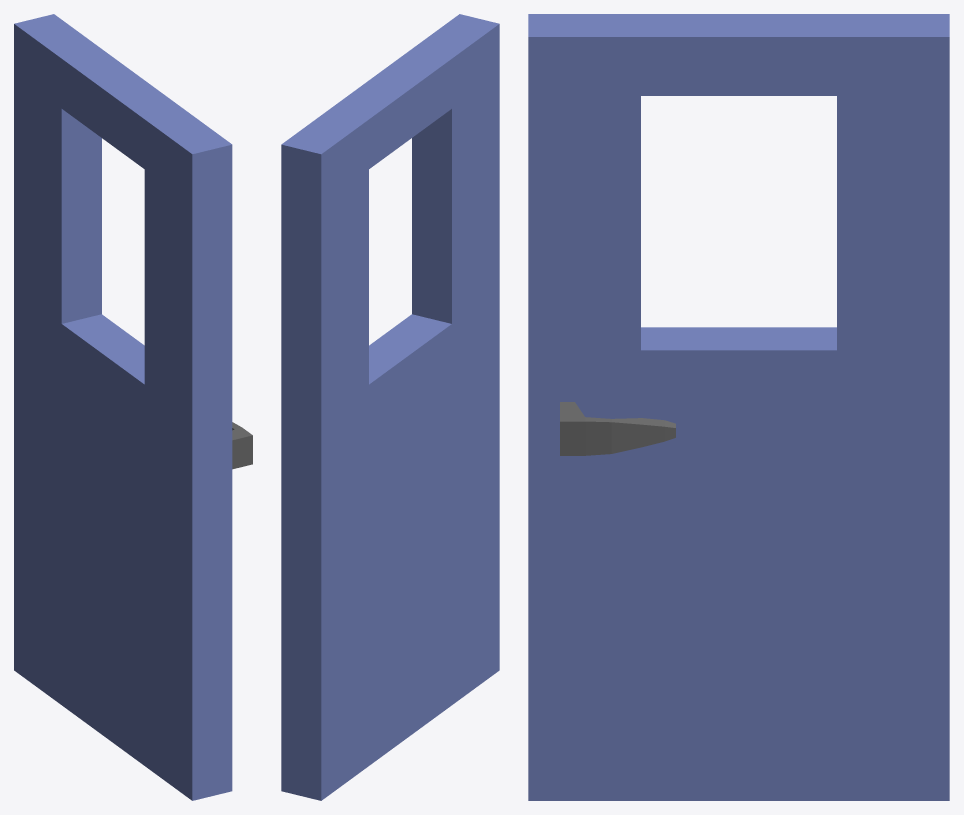
Rendered from Doors.fbx.
3 renders of one model, left to right at view 1: azimuth 30°, elevation 25°; view 2: azimuth 150°, elevation 25°; view 3: azimuth 270°, elevation 25°, orthographic. The views are drawn at different scales.
Visible parts, largest first — view 1: Cube.005, Cube.003; view 2: Cube.005; view 3: Cube.005, Cube.003.
Boxes of the visible parts, <box> form: Cube.005: <box>14,14,232,800</box>; Cube.003: <box>232,422,252,469</box>; Cube.005: <box>281,14,499,800</box>; Cube.005: <box>528,14,949,800</box>; Cube.003: <box>560,402,675,455</box>.
Size of the model in its own units: 239 by 2000 by 1000.
